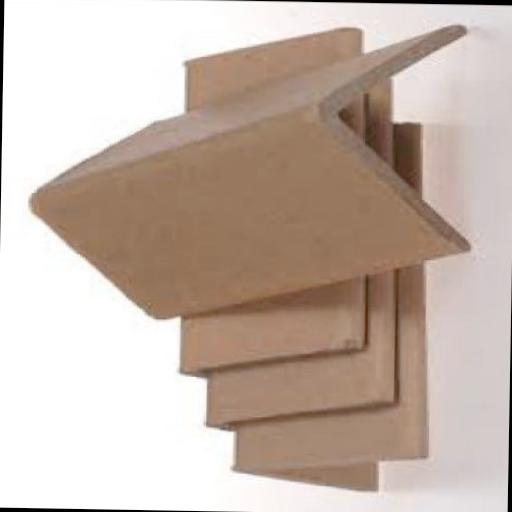cardboard: (21, 14, 474, 322), (226, 116, 438, 491), (202, 68, 400, 432), (177, 21, 375, 379)
